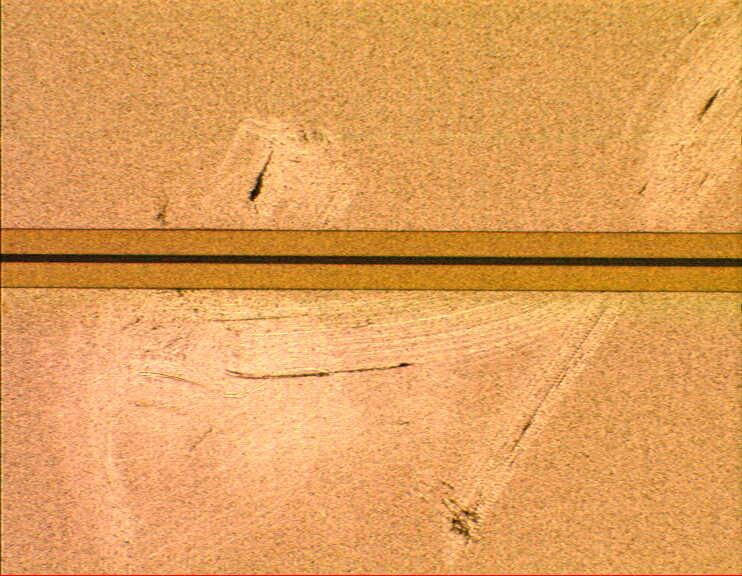SCRATCH: (31, 1, 742, 576)
